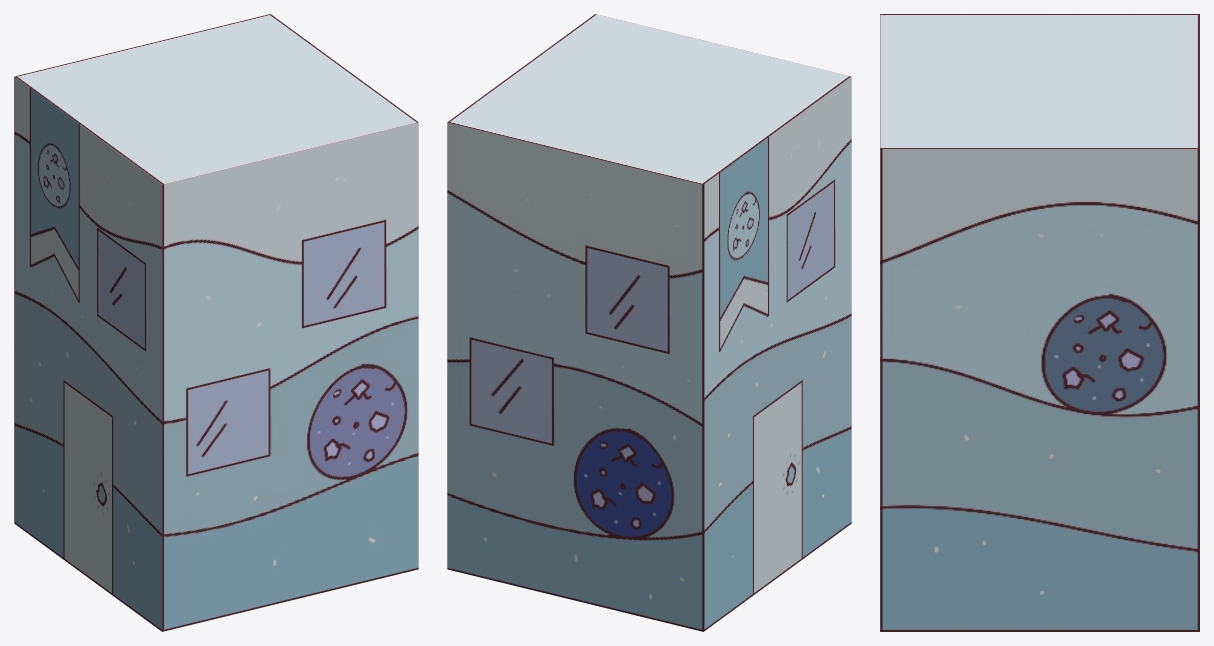
Rendered from dear_building1.fbx.
3 renders of one model, left to right at view 1: azimuth 30°, elevation 25°; view 2: azimuth 150°, elevation 25°; view 3: azimuth 270°, elevation 25°, orthographic. The views are drawn at different scales.
Visible parts, largest first — view 1: Box001; view 2: Box001; view 3: Box001.
Boxes of the visible parts, x1,y1,x2,y2 form: Box001: [14, 14, 418, 631]; Box001: [447, 14, 851, 631]; Box001: [880, 14, 1199, 631].
Bounding box in the file's own units: 360 × 600 × 360.
1 material, 1 textured.
